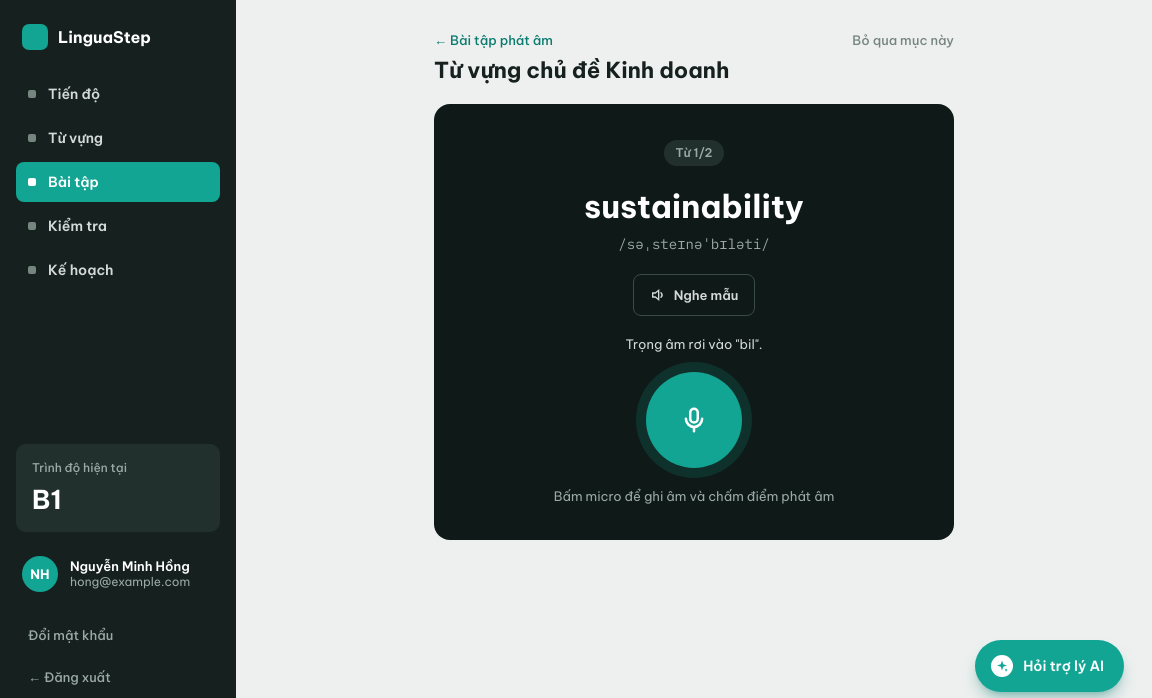
Test case: pronunciation exercise › shows phoneme substitutions and omitted words in a sentence
Click the button "Bỏ qua mục này": click(903, 40) [852, 32, 954, 48]
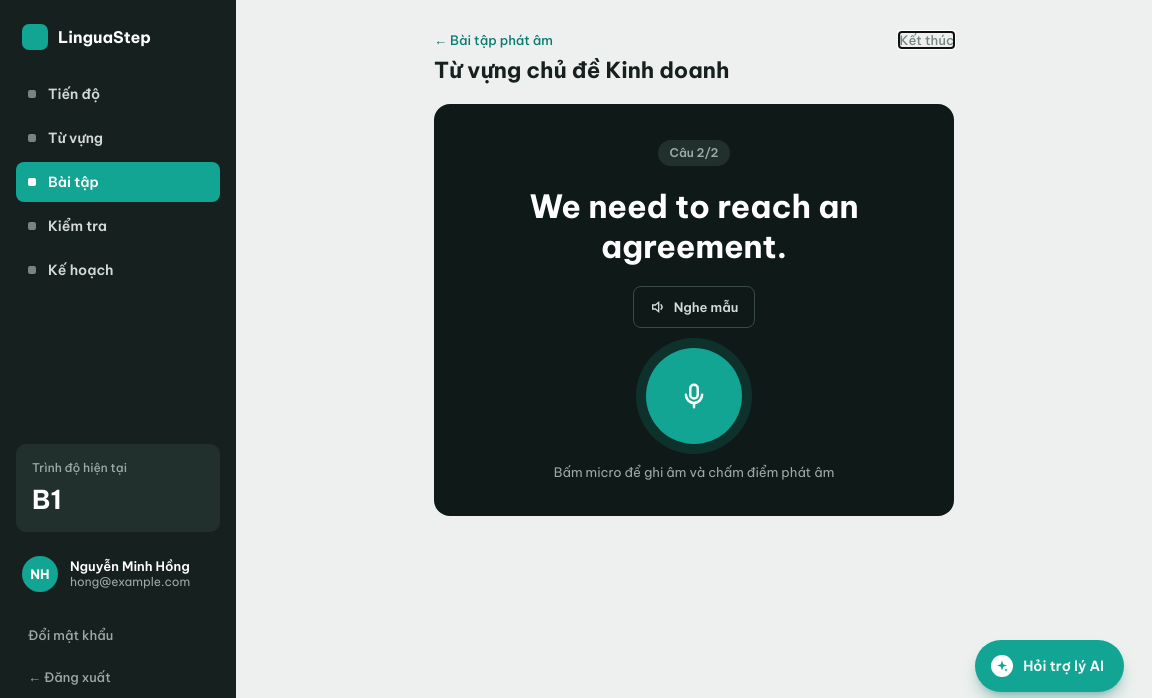
Click the button named "Bắt đầu ghi âm": click(694, 396) [646, 348, 742, 444]
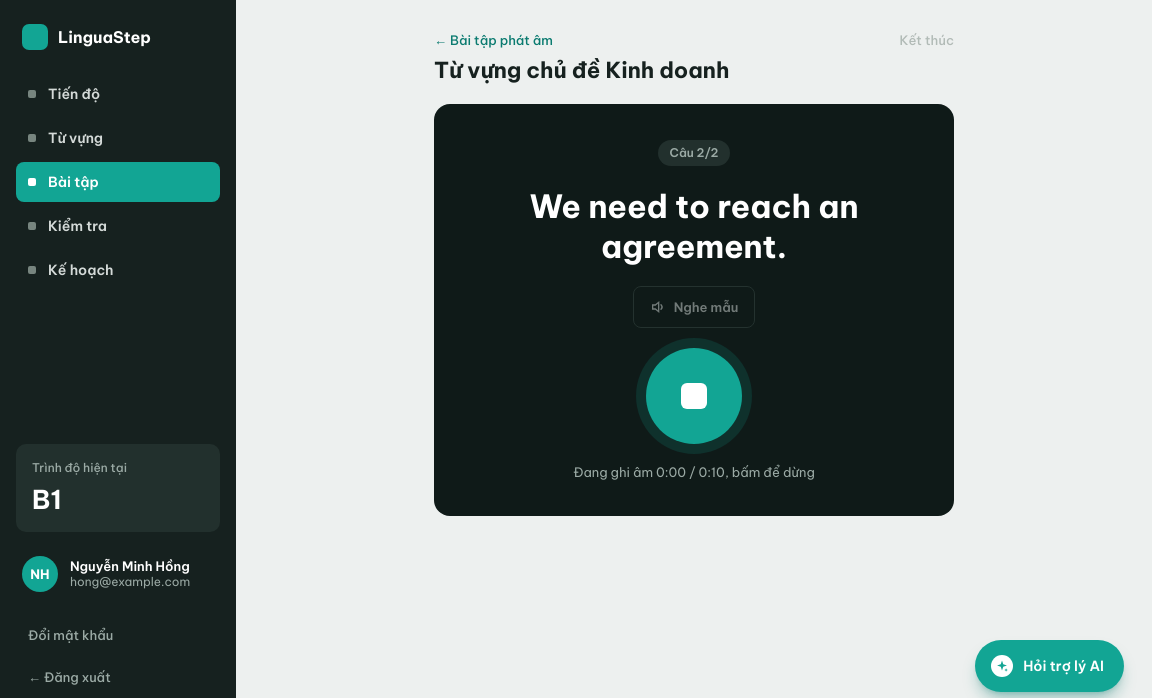
Click the button named "Dừng ghi âm": click(694, 396) [646, 348, 742, 444]
(page scrolled)
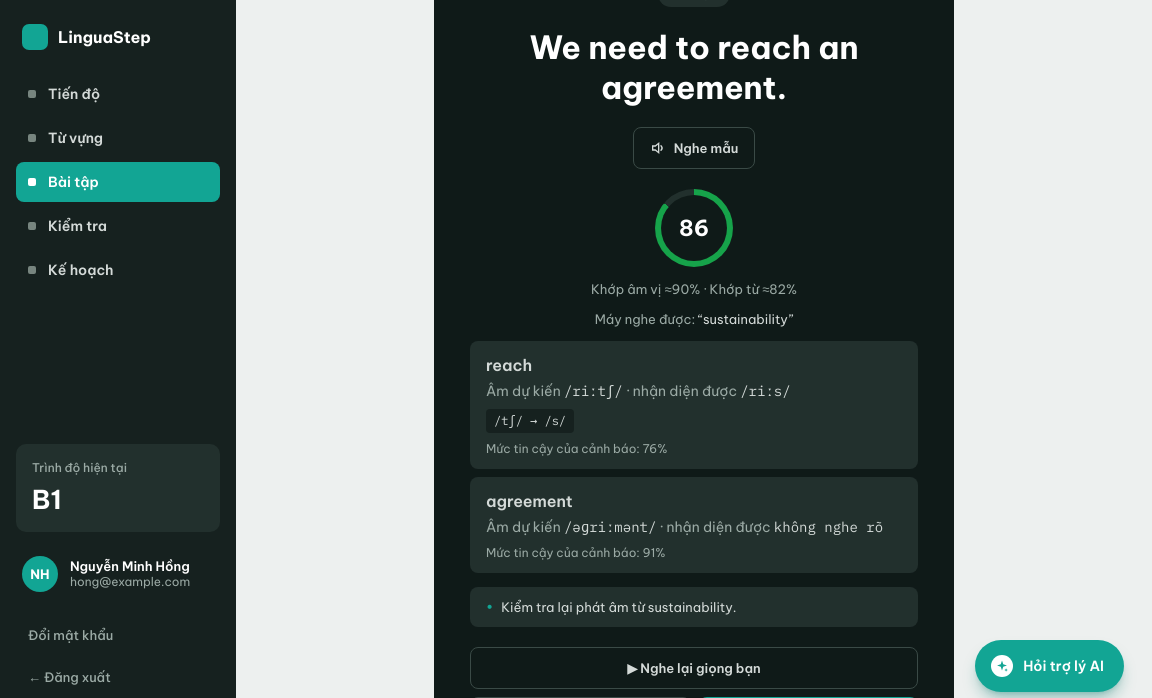
Now the text "Câu 2/2" shows "reach", box [486, 355, 532, 375]
Now the text "Câu 2/2" shows "agreement", box [486, 491, 573, 511]
Now the picture named "Điểm phát âm" is shown, box [655, 189, 733, 267]
